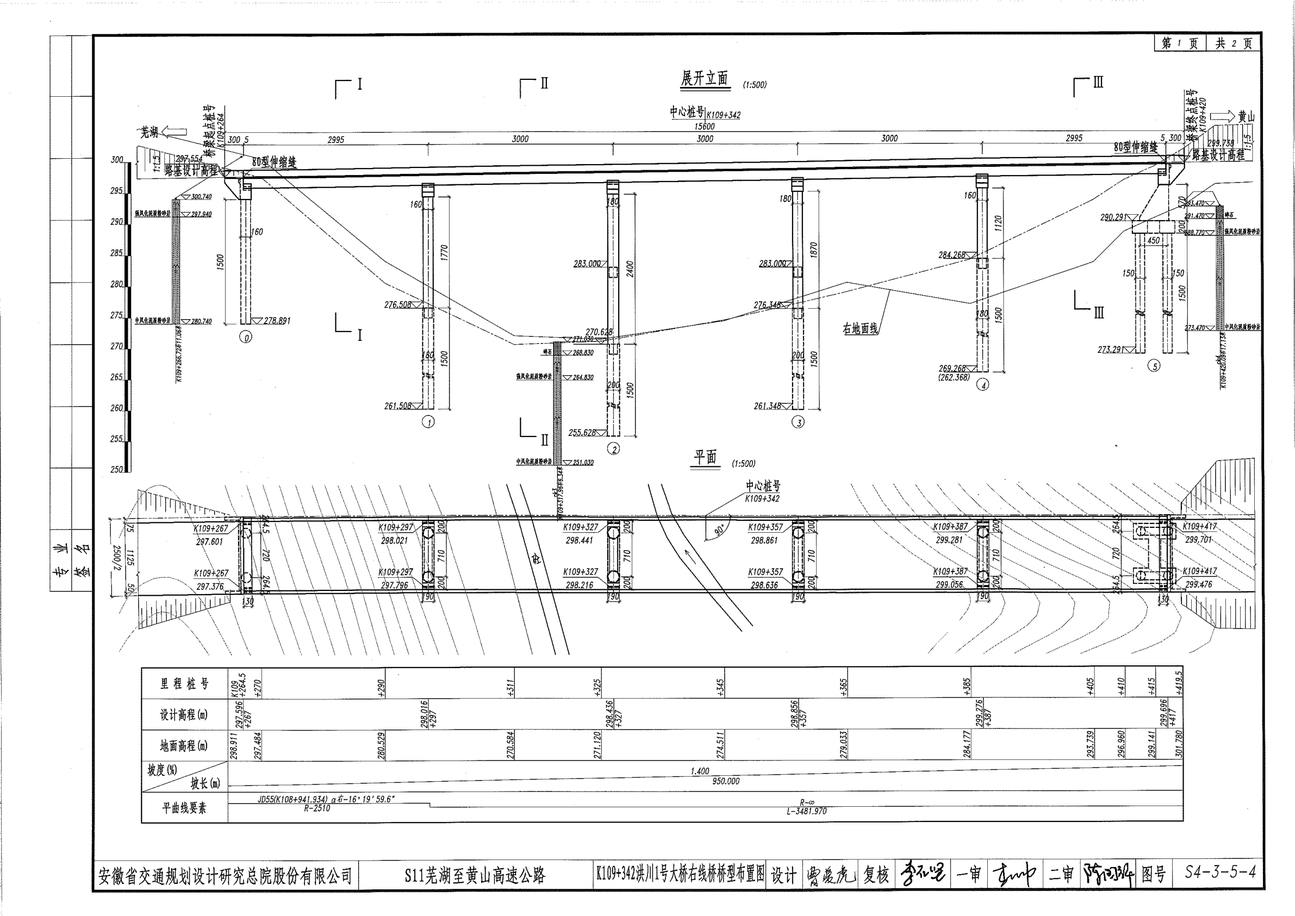A: (106, 59, 1281, 476)
